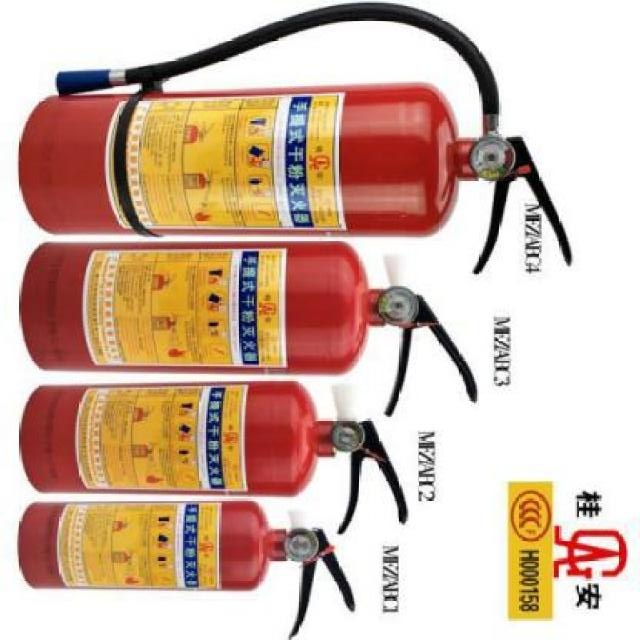fire extinguisher: (17, 2, 574, 275), (20, 239, 478, 418), (19, 378, 410, 537), (19, 500, 356, 640)
